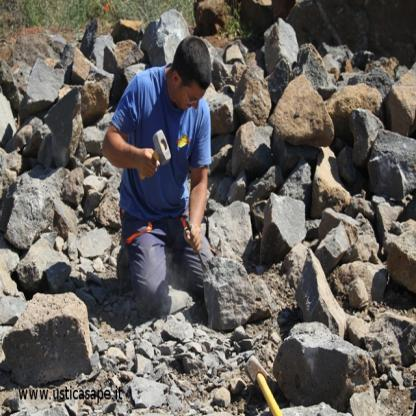person: (92, 25, 238, 322)
